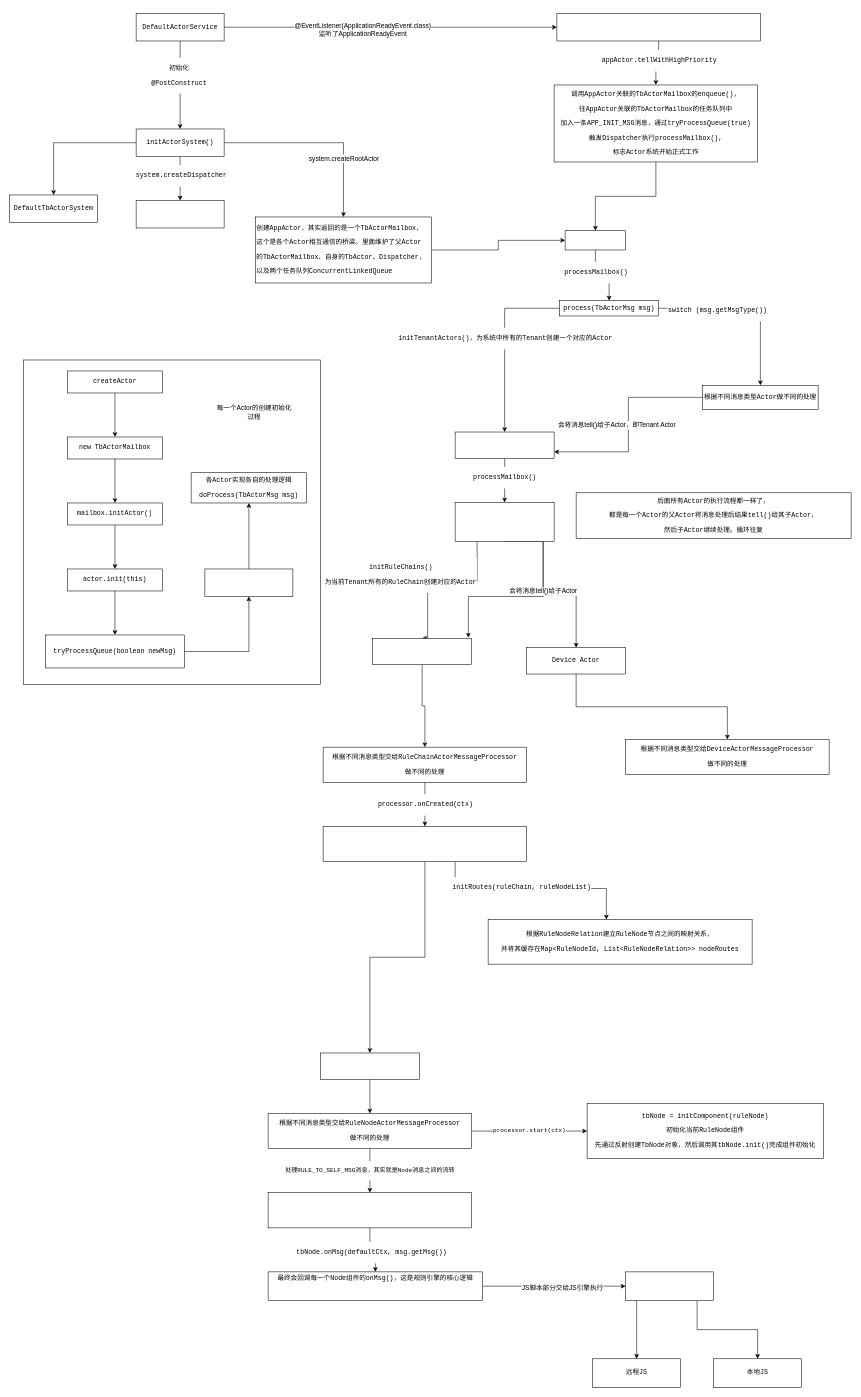
The diagram is 861 pixels wide and 1397 high, and some of its shapes have lost their labels. Here are the shapes that lost their labels. From the top down, the centre of each, then its label:
At point (658, 27): "当应用启动完成后，会回调 onApplicationEvent (ApplicationReadyEvent event)".
At point (180, 214): "创建每一种Actor对应的Dispatcher".
At point (595, 240): "APP Actor".
At point (504, 444): "Tenant Actor".
At point (504, 521): "process(TbActorMsg msg)".
At point (248, 582): "actor .process(msg)".
At point (422, 651): "RuleChain Actor".
At point (425, 844): "查询出该Tenant下指定RuleChain以及其RuleNode列表， 为每一个RuleNode创建Actor".
At point (369, 1065): "RuleNode Actor".
At point (370, 1210): "调用RuleNodeActorMessageProcessor的 onRuleToSelfMsg (RuleNodeToSelfMsg msg)".
At point (669, 1285): "JsInvokeService".
